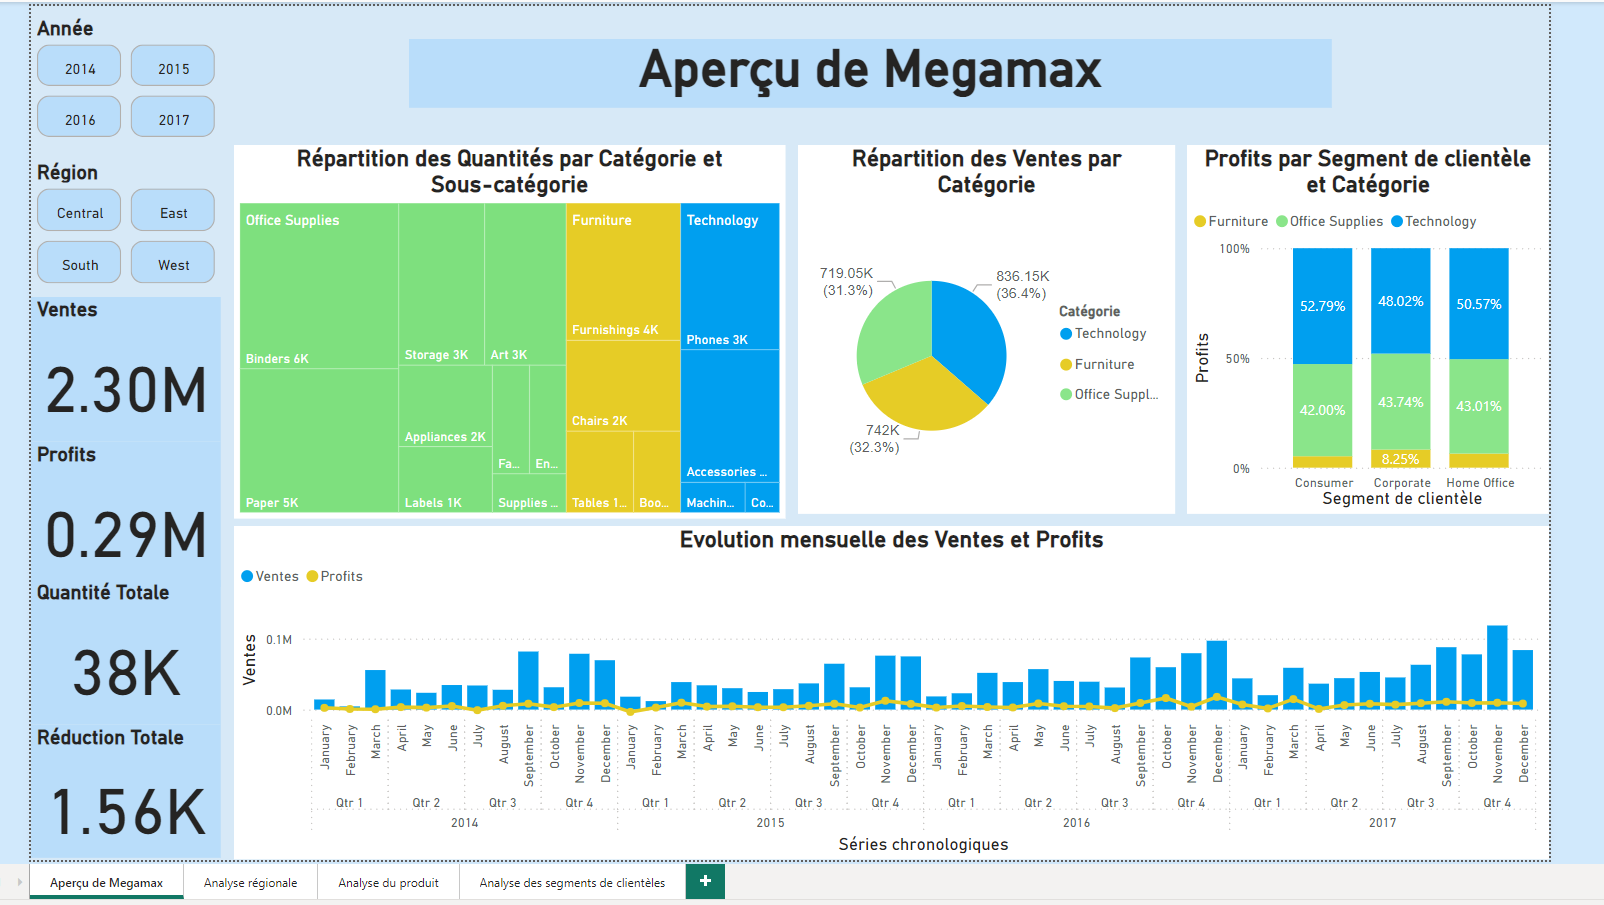

What the dashboard file says about the page in this screenshot:
{"tool":"powerbi","page":{"name":"Aperçu de Megamax","canvas":[1280,720],"ordinal":0},"visuals":[{"type":"pieChart","title":"Répartition des Ventes  par Catégorie","fields":{"Category":["Sample - MegaMax.Category"],"Y":["Sum(Sample - MegaMax.Sales)"]},"box":[646.9,117.3,318.3,311.4],"z":1000},{"type":"lineStackedColumnComboChart","title":"Evolution mensuelle des Ventes et Profits","fields":{"Y":["Sum(Sample - MegaMax.Sales)"],"Y2":["Sum(Sample - MegaMax.Profit)"],"Category":["Sample - MegaMax.Order Date.Variation.Date Hierarchy.Year","Sample - MegaMax.Order Date.Variation.Date Hierarchy.Quarter","Sample - MegaMax.Order Date.Variation.Date Hierarchy.Month"]},"box":[171.2,438.7,1108.8,281.1],"z":2000},{"type":"hundredPercentStackedColumnChart","title":"Profits par Segment de clientèle et Catégorie","fields":{"Category":["Sample - MegaMax.Segment"],"Series":["Sample - MegaMax.Category"],"Y":["Sum(Sample - MegaMax.Profit)"]},"box":[974.7,117.3,305.3,311.4],"z":3000},{"type":"treemap","title":"Répartition des Quantités par Catégorie et Sous-catégorie","fields":{"Group":["Sample - MegaMax.Category"],"Values":["Sum(Sample - MegaMax.Quantity)"],"Details":["Sample - MegaMax.Sub-Category"]},"box":[170.8,117.3,464.9,314.8],"z":4000},{"type":"advancedSlicerVisual","title":"Région","fields":{"Values":["Sample - MegaMax.Region"]},"box":[0,130.2,160.4,110.4],"z":5000},{"type":"card","title":"Ventes","fields":{"Values":["Sum(Sample - MegaMax.Sales)"]},"box":[0,245,160.4,122.5],"z":6000},{"type":"card","title":"Profits","fields":{"Values":["Sum(Sample - MegaMax.Profit)"]},"box":[0,367.4,160.4,122.5],"z":7000},{"type":"card","title":"Quantité Totale","fields":{"Values":["Sum(Sample - MegaMax.Quantity)"]},"box":[0,483.9,160.4,122.5],"z":8000},{"type":"textbox","title":"Aperçu de Megamax","box":[318.7,27.8,778.2,58.2],"z":9000},{"type":"card","title":"Réduction Totale","fields":{"Values":["Sum(Sample - MegaMax.Discount)"]},"box":[0,606.4,160.4,112.1],"z":10000},{"type":"advancedSlicerVisual","title":"Année","fields":{"Values":["Sample - MegaMax.Order Date.Variation.Date Hierarchy.Year"]},"box":[0,8.6,160.4,108.7],"z":11000}]}

Visuals, with their boxes on the page's 1280x720 design canvas (x1, y1, x2, y2). These are canvas units, not pixel positions in the 1604x905 screenshot, which may show the page scaled, cropped or inside an application window:
"Répartition des Ventes  par Catégorie" pieChart: (left=647, top=117, right=965, bottom=429)
"Evolution mensuelle des Ventes et Profits" lineStackedColumnComboChart: (left=171, top=439, right=1280, bottom=720)
"Profits par Segment de clientèle et Catégorie" hundredPercentStackedColumnChart: (left=975, top=117, right=1280, bottom=429)
"Répartition des Quantités par Catégorie et Sous-catégorie" treemap: (left=171, top=117, right=636, bottom=432)
"Région" advancedSlicerVisual: (left=0, top=130, right=160, bottom=241)
"Ventes" card: (left=0, top=245, right=160, bottom=368)
"Profits" card: (left=0, top=367, right=160, bottom=490)
"Quantité Totale" card: (left=0, top=484, right=160, bottom=606)
"Aperçu de Megamax" textbox: (left=319, top=28, right=1097, bottom=86)
"Réduction Totale" card: (left=0, top=606, right=160, bottom=718)
"Année" advancedSlicerVisual: (left=0, top=9, right=160, bottom=117)
